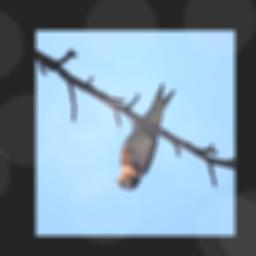Swallow: (114, 83, 175, 192)
